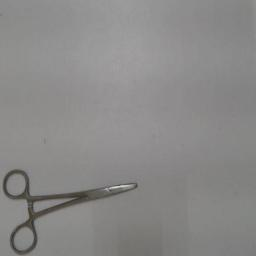Mayo Needle Holder: (0, 164, 144, 256)
